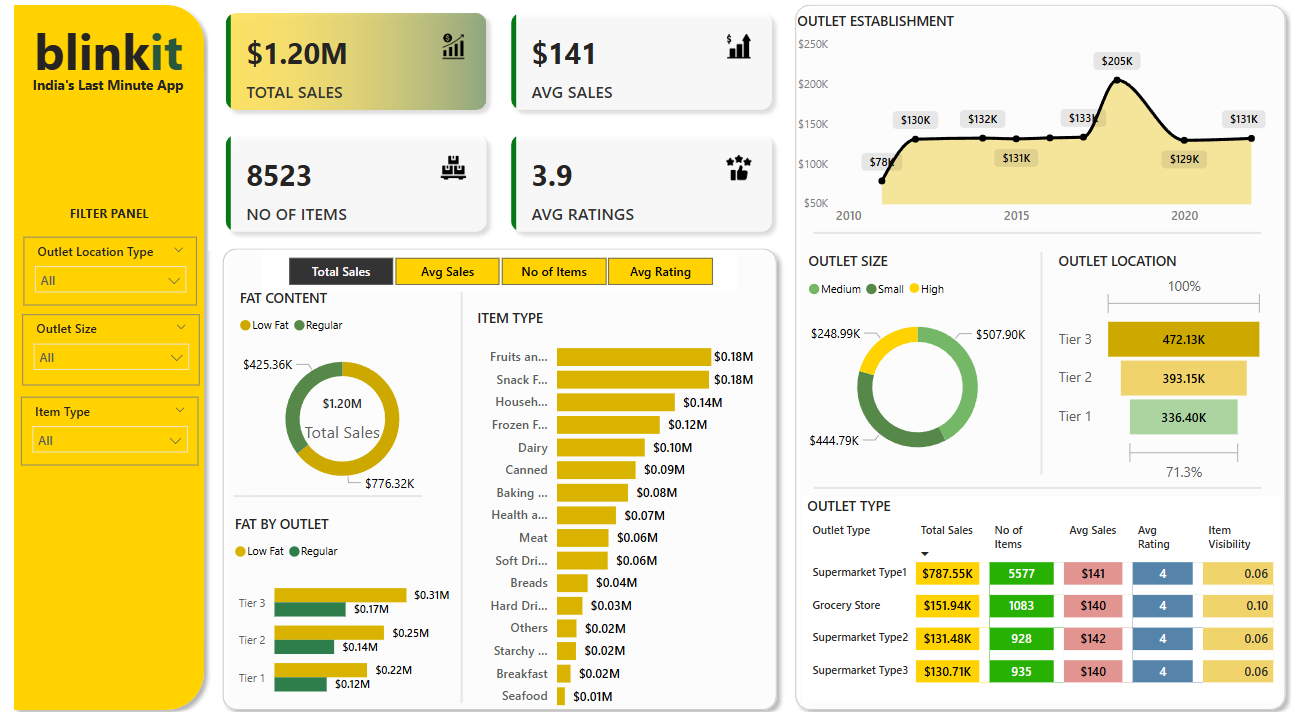

Layout of this report page (visuals, bound fields, positions):
{"tool":"powerbi","page":{"name":"Page 1","canvas":[1280,720],"ordinal":0},"visuals":[{"type":"shape","box":[17.8,12.3,204,708.1],"z":0},{"type":"textbox","box":[29.3,85.6,179.8,30.6],"z":1000},{"type":"textbox","box":[30.6,28.1,178.5,74.6],"z":2000},{"type":"cardVisual","fields":{"Data":["BlinkIT Grocery Data.Total Sales","BlinkIT Grocery Data.Avg Sales","BlinkIT Grocery Data.No of Items","BlinkIT Grocery Data.Avg Rating"]},"box":[217.7,12.2,569.8,249.5],"z":3000},{"type":"shape","box":[222.6,250.7,560.1,469.6],"z":4000},{"type":"donutChart","title":"FAT CONTENT","fields":{"Y":["BlinkIT Grocery Data.Total Sales"],"Category":["BlinkIT Grocery Data.Item Fat Content"]},"box":[243.3,298.4,211.6,211.6],"z":5000},{"type":"slicer","fields":{"Values":["Metrics.Metrics"]},"box":[270.2,261.7,464.7,40.4],"z":6000},{"type":"cardVisual","fields":{"Data":["BlinkIT Grocery Data.Total Sales"]},"box":[293.5,386.4,110.1,68.5],"z":7000},{"type":"clusteredBarChart","title":"FAT BY OUTLET","fields":{"Y":["BlinkIT Grocery Data.Total Sales"],"Category":["BlinkIT Grocery Data.Outlet Location Type"],"Series":["BlinkIT Grocery Data.Item Fat Content"]},"box":[238.5,519.7,220.1,194.4],"z":8000},{"type":"shape","box":[242.1,494,184.6,15.9],"z":9000},{"type":"shape","box":[454.9,302,20.8,402.3],"z":10000},{"type":"barChart","title":"ITEM TYPE","fields":{"Y":["BlinkIT Grocery Data.Total Sales"],"Category":["BlinkIT Grocery Data.Item Type"]},"box":[475.7,317.9,280,402.3],"z":11000},{"type":"shape","box":[782.6,12.2,497.7,708],"z":12000},{"type":"lineChart","title":"OUTLET ESTABLISHMENT","fields":{"Category":["BlinkIT Grocery Data.Outlet Establishment Year"],"Y":["BlinkIT Grocery Data.Total Sales"]},"box":[788.7,28.1,468.3,217.7],"z":13000},{"type":"donutChart","title":"OUTLET SIZE","fields":{"Y":["BlinkIT Grocery Data.Total Sales"],"Category":["BlinkIT Grocery Data.Outlet Size"]},"box":[799.7,262.9,223.8,220.1],"z":14000},{"type":"shape","box":[809.5,238.5,446.3,12.2],"z":15000},{"type":"shape","box":[1012.5,262.9,40.4,220.1],"z":16000},{"type":"funnel","title":"OUTLET LOCATION","fields":{"Y":["Sum(BlinkIT Grocery Data.Sales)"],"Category":["BlinkIT Grocery Data.Outlet Location Type"]},"box":[1044.3,262.9,211.6,229.9],"z":17000},{"type":"shape","box":[809.5,487.9,446.3,12.2],"z":18000},{"type":"pivotTable","title":"OUTLET TYPE","fields":{"Rows":["BlinkIT Grocery Data.Outlet Type"],"Values":["BlinkIT Grocery Data.Total Sales","BlinkIT Grocery Data.No of Items","BlinkIT Grocery Data.Avg Sales","BlinkIT Grocery Data.Avg Rating","Avg(BlinkIT Grocery Data.Item Visibility)"]},"box":[798.5,502.6,468.3,201.8],"z":19000},{"type":"slicer","fields":{"Values":["BlinkIT Grocery Data.Outlet Location Type"]},"box":[36.7,248.2,170,67.3],"z":20000},{"type":"slicer","fields":{"Values":["BlinkIT Grocery Data.Outlet Size"]},"box":[35.5,324.1,173.6,69.7],"z":20001},{"type":"slicer","fields":{"Values":["BlinkIT Grocery Data.Item Type"]},"box":[34.2,404.8,173.6,67.3],"z":20002},{"type":"textbox","box":[66,210.3,108.8,28.1],"z":20003}]}

Visuals, with their boxes in screenshot pixels (x1, y1, x2, y2), scaled from the page's 1280x720 canvas onto the 1291x712 screenshot:
shape: {"x1": 18, "y1": 12, "x2": 224, "y2": 711}
textbox: {"x1": 30, "y1": 85, "x2": 211, "y2": 115}
textbox: {"x1": 31, "y1": 28, "x2": 211, "y2": 102}
cardVisual - BlinkIT Grocery Data.Total Sales x BlinkIT Grocery Data.Avg Sales: {"x1": 220, "y1": 12, "x2": 794, "y2": 259}
shape: {"x1": 225, "y1": 248, "x2": 789, "y2": 711}
"FAT CONTENT" donutChart: {"x1": 245, "y1": 295, "x2": 459, "y2": 504}
slicer - Metrics.Metrics: {"x1": 273, "y1": 259, "x2": 741, "y2": 299}
cardVisual - BlinkIT Grocery Data.Total Sales: {"x1": 296, "y1": 382, "x2": 407, "y2": 450}
"FAT BY OUTLET" clusteredBarChart: {"x1": 241, "y1": 514, "x2": 463, "y2": 706}
shape: {"x1": 244, "y1": 489, "x2": 430, "y2": 504}
shape: {"x1": 459, "y1": 299, "x2": 480, "y2": 696}
"ITEM TYPE" barChart: {"x1": 480, "y1": 314, "x2": 762, "y2": 711}
shape: {"x1": 789, "y1": 12, "x2": 1290, "y2": 711}
"OUTLET ESTABLISHMENT" lineChart: {"x1": 795, "y1": 28, "x2": 1268, "y2": 243}
"OUTLET SIZE" donutChart: {"x1": 807, "y1": 260, "x2": 1032, "y2": 478}
shape: {"x1": 816, "y1": 236, "x2": 1267, "y2": 248}
shape: {"x1": 1021, "y1": 260, "x2": 1062, "y2": 478}
"OUTLET LOCATION" funnel: {"x1": 1053, "y1": 260, "x2": 1267, "y2": 487}
shape: {"x1": 816, "y1": 482, "x2": 1267, "y2": 495}
"OUTLET TYPE" pivotTable: {"x1": 805, "y1": 497, "x2": 1278, "y2": 697}
slicer - BlinkIT Grocery Data.Outlet Location Type: {"x1": 37, "y1": 245, "x2": 208, "y2": 312}
slicer - BlinkIT Grocery Data.Outlet Size: {"x1": 36, "y1": 320, "x2": 211, "y2": 389}
slicer - BlinkIT Grocery Data.Item Type: {"x1": 34, "y1": 400, "x2": 210, "y2": 467}
textbox: {"x1": 67, "y1": 208, "x2": 176, "y2": 236}
